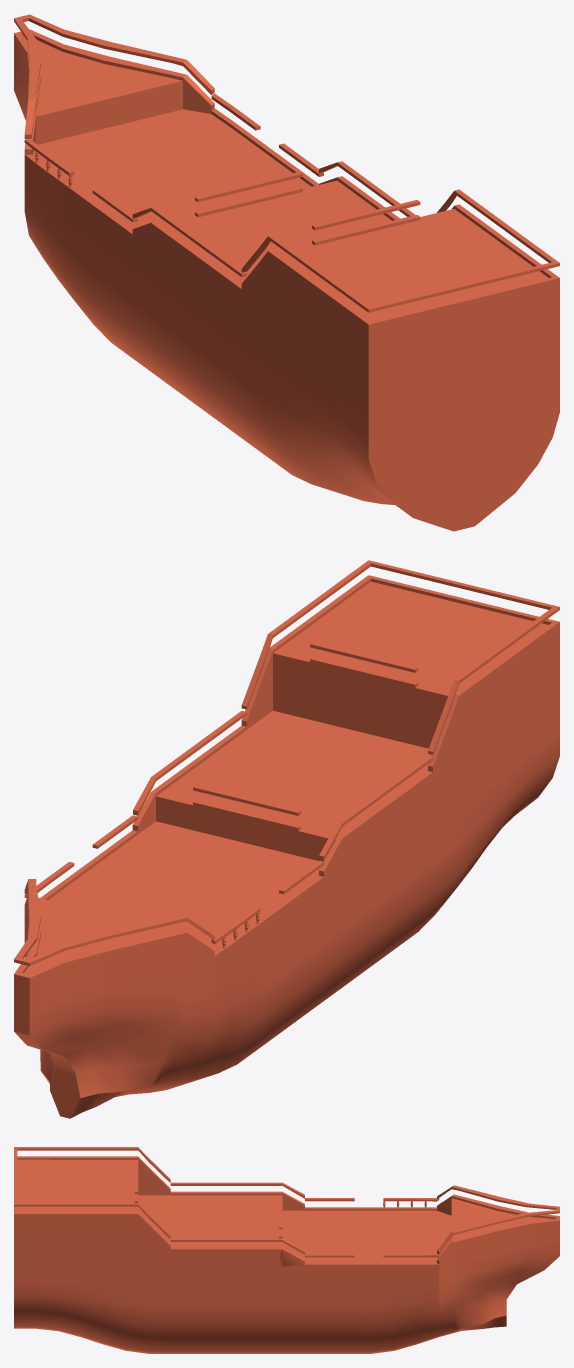
The model's file is M3D_Props_Bateau_ForSubstancePainter.fbx.
3 renders of one model, top to bottom at view 1: azimuth 30°, elevation 25°; view 2: azimuth 150°, elevation 25°; view 3: azimuth 270°, elevation 25°, orthographic. The views are drawn at different scales.
Visible parts, largest first — view 1: Bateau.007; view 2: Bateau.007; view 3: Bateau.007.
Boxes of the visible parts, bbox=[...] form: Bateau.007: bbox=[14, 14, 559, 531]; Bateau.007: bbox=[14, 560, 559, 1118]; Bateau.007: bbox=[14, 1147, 559, 1353].
Bounding box in the file's own units: 4287 × 1070 × 1514.
